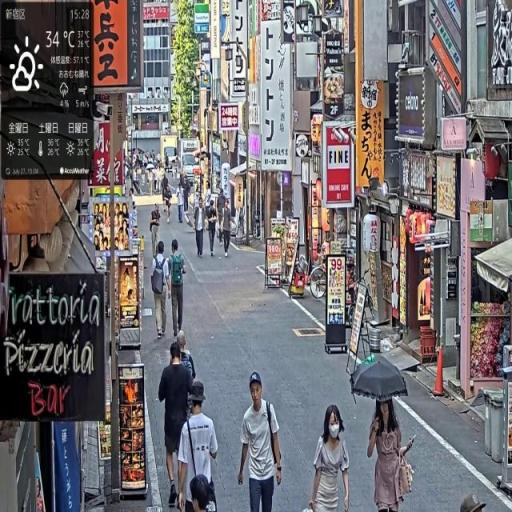person: (237, 370, 284, 512), (159, 340, 195, 508), (367, 395, 416, 512), (177, 379, 220, 512), (308, 402, 351, 512), (151, 240, 172, 341), (168, 238, 188, 340), (188, 474, 219, 512), (177, 331, 198, 386), (194, 196, 208, 260), (220, 198, 234, 259), (207, 197, 220, 259), (150, 202, 162, 259)
